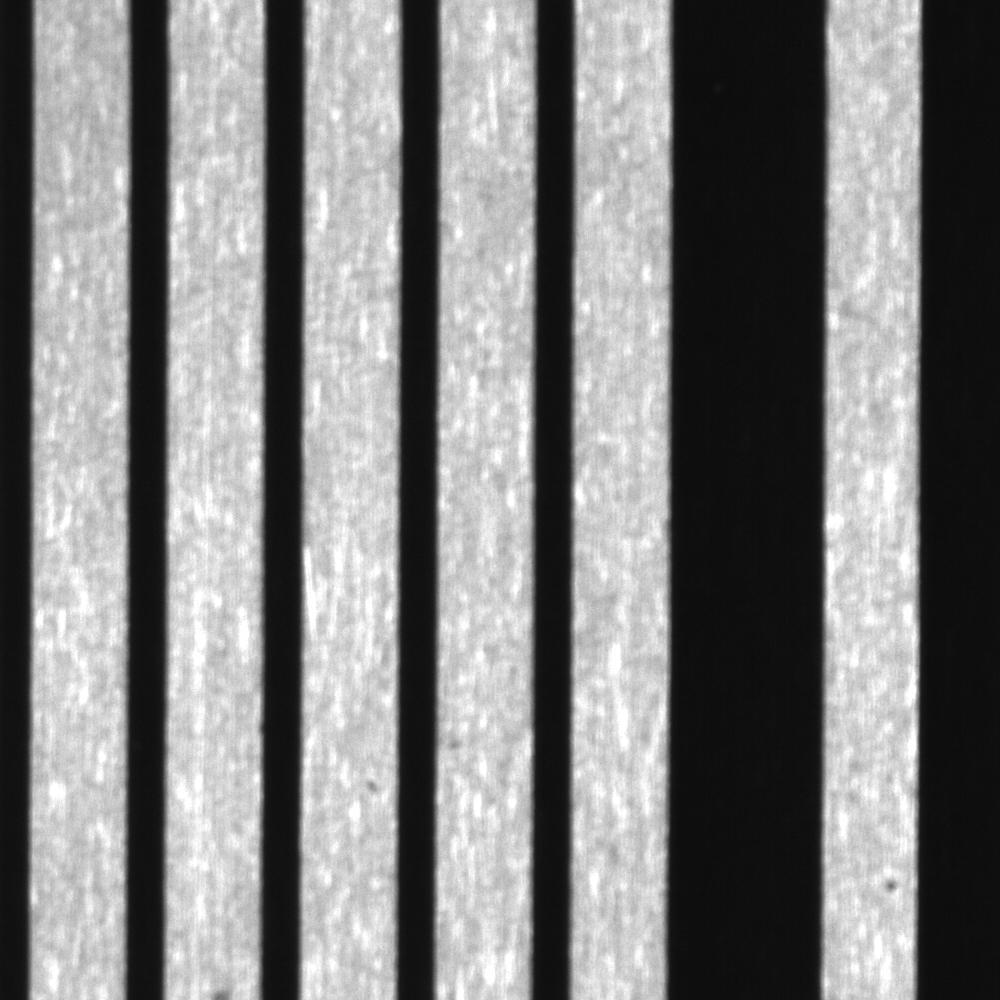Etching: (346, 755, 393, 806)
Pinhole: (866, 851, 912, 913)
